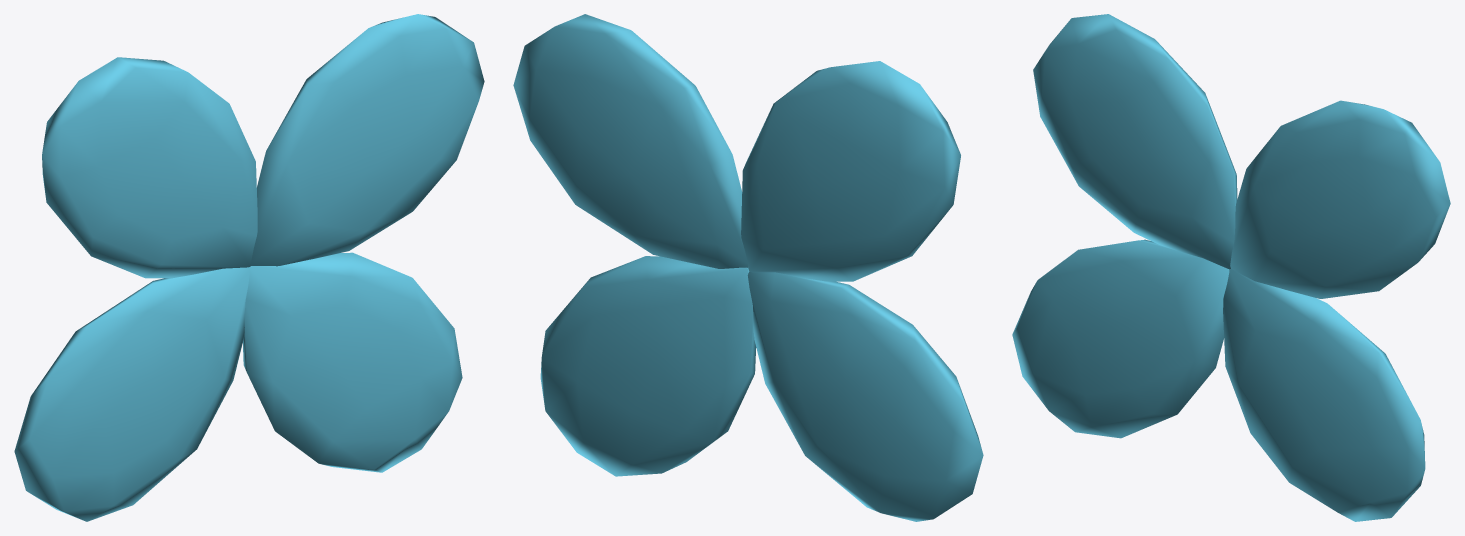
Rendered from blue flower.fbx.
The picture shows the model from 3 angles, left to right: view 1: azimuth 30°, elevation 25°; view 2: azimuth 150°, elevation 25°; view 3: azimuth 330°, elevation 25°; orthographic projection. The views are drawn at different scales.
Visible parts, largest first — view 1: flower2_4.002, flower2_2.002, flower2_1.002, flower2_3.002; view 2: flower2_4.002, flower2_2.002, flower2_1.002, flower2_3.002; view 3: flower2_1.002, flower2_3.002, flower2_2.002, flower2_4.002.
Boxes of the visible parts, bbox=[...] form: flower2_4.002: bbox=[14, 267, 249, 521]; flower2_2.002: bbox=[251, 14, 484, 266]; flower2_1.002: bbox=[42, 57, 257, 278]; flower2_3.002: bbox=[243, 252, 462, 472]; flower2_4.002: bbox=[747, 271, 983, 521]; flower2_2.002: bbox=[513, 14, 747, 268]; flower2_1.002: bbox=[741, 61, 960, 281]; flower2_3.002: bbox=[540, 256, 756, 476]; flower2_1.002: bbox=[1033, 14, 1237, 268]; flower2_3.002: bbox=[1223, 269, 1425, 521]; flower2_2.002: bbox=[1230, 100, 1450, 298]; flower2_4.002: bbox=[1012, 239, 1229, 438].
Size of the model in its own units: 44.18 by 43.12 by 3.73.
